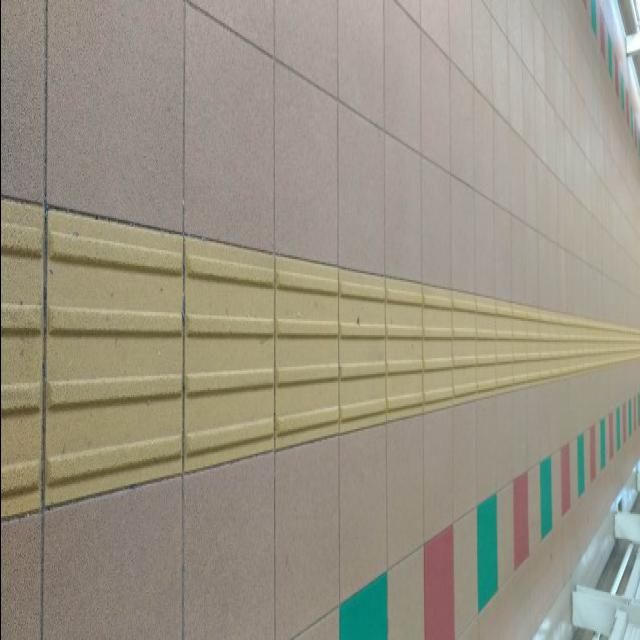tactile-guide-path: (1, 191, 639, 522)
